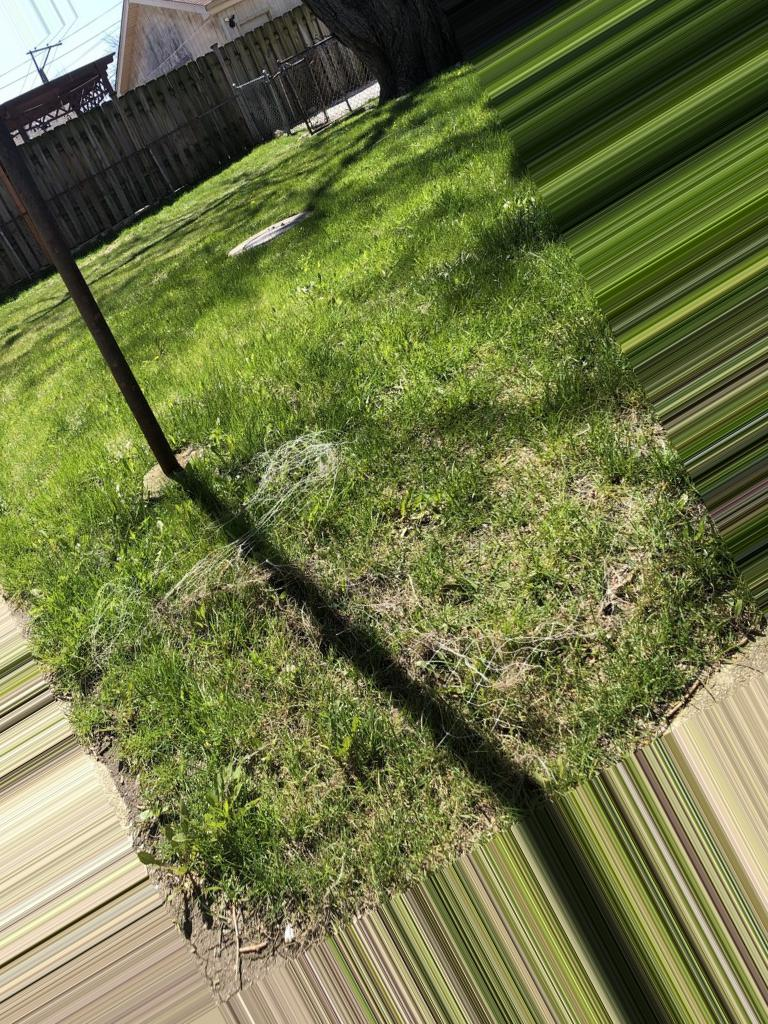patch: (505, 518, 639, 604)
